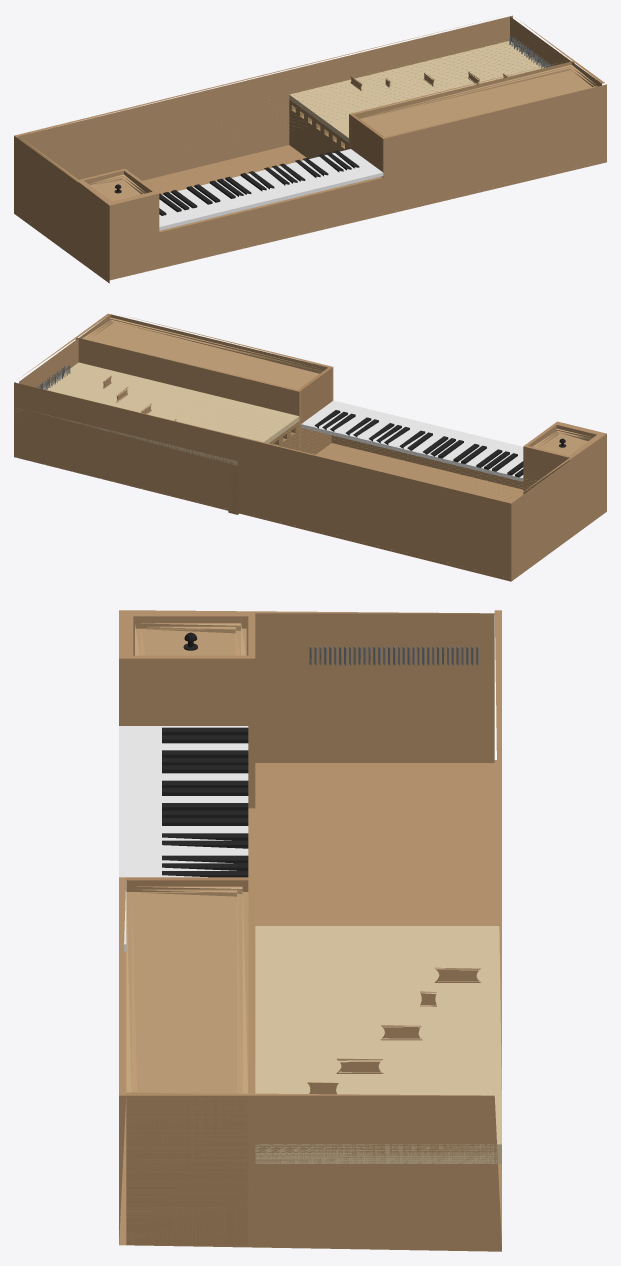
The model's file is strings_and_bridges.glb.
3 views of the same model, one above another, from view 1: azimuth 30°, elevation 25°; view 2: azimuth 150°, elevation 25°; view 3: azimuth 270°, elevation 25° (orthographic). The views are drawn at different scales.
Size of the model in its own units: 1.44 by 0.2204 by 0.4812.
